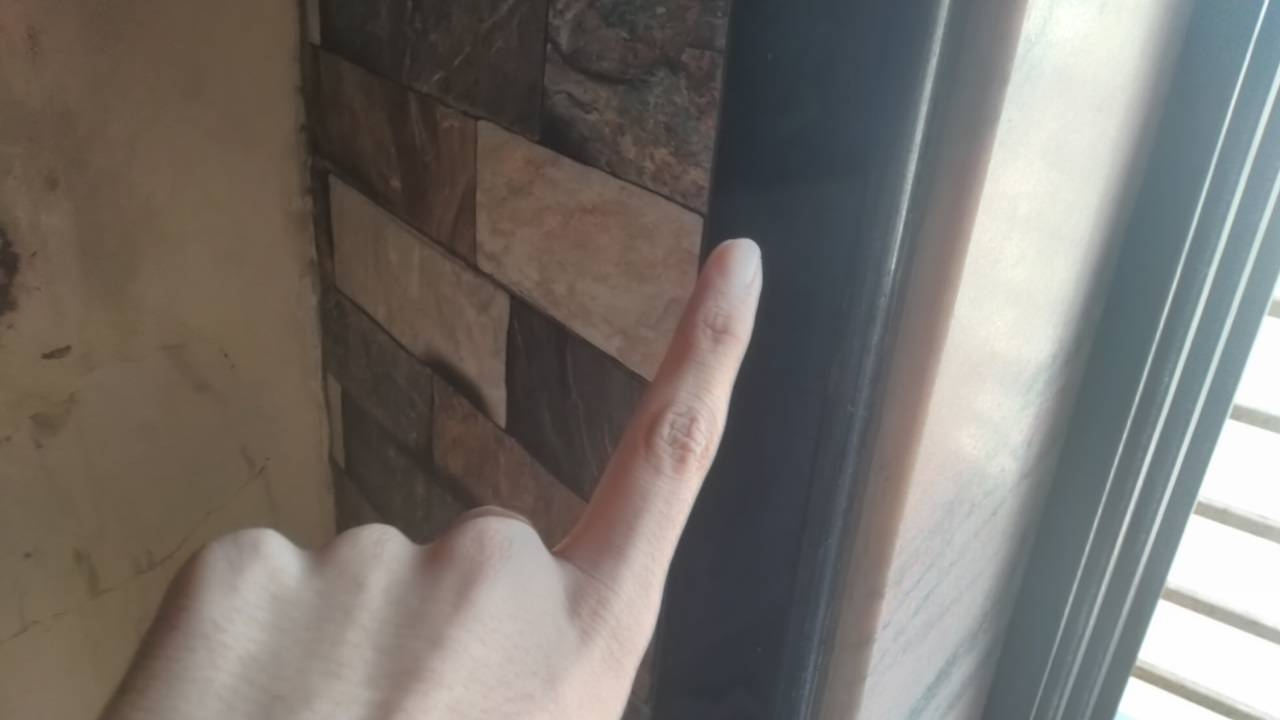fingertip: (702, 234, 770, 298)
